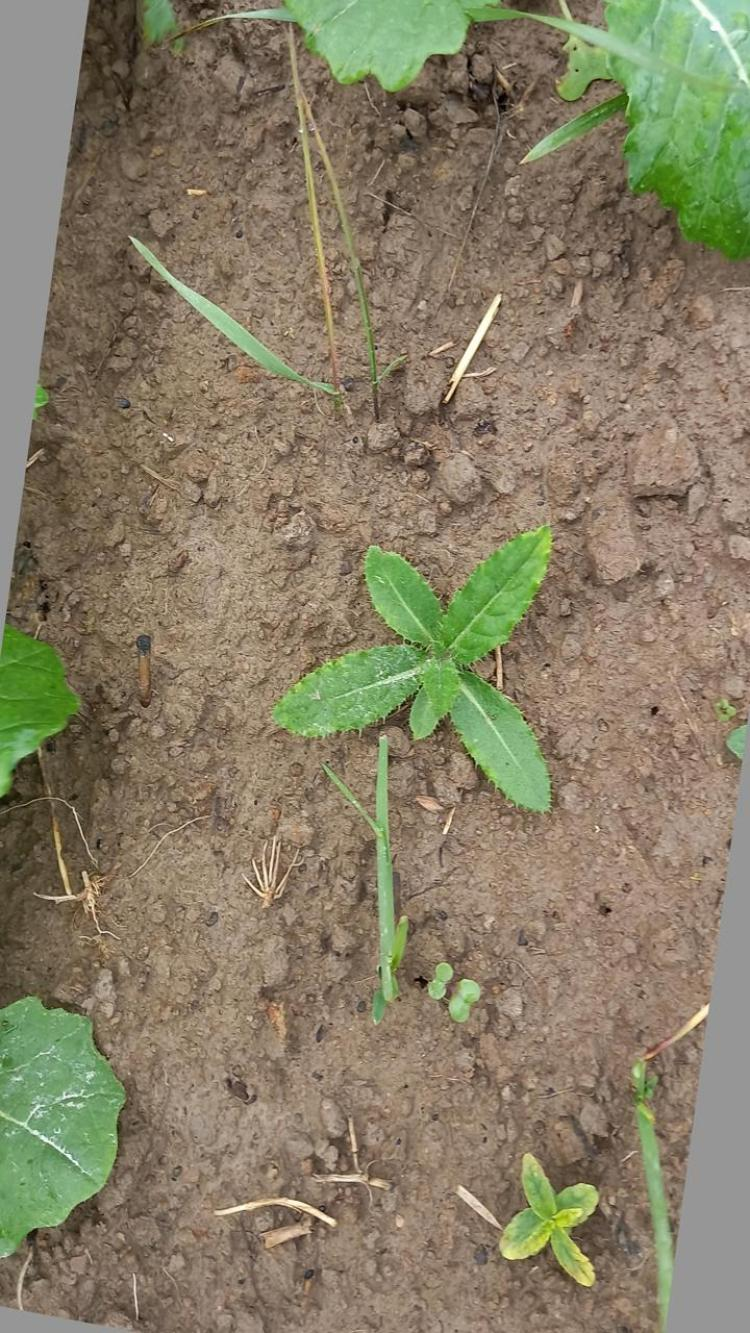bodyak: (277, 522, 558, 822)
